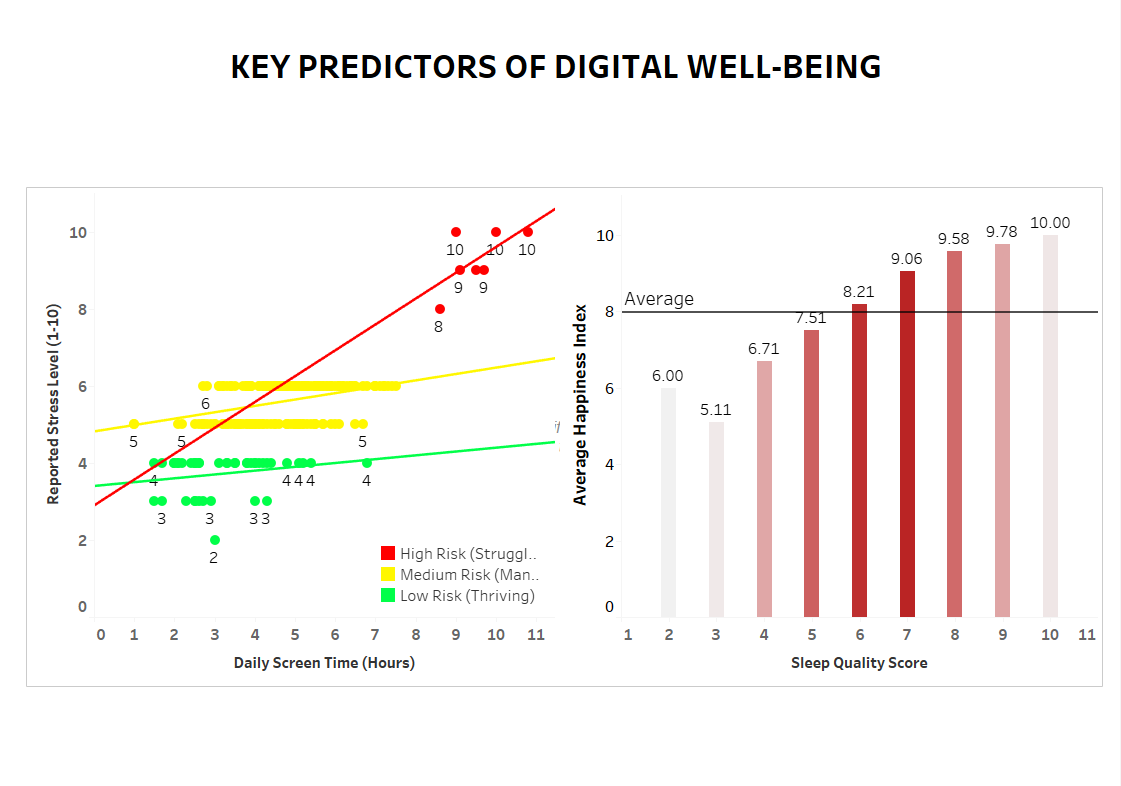

This screenshot's page, from the dashboard's own definition file:
{"tool":"tableau","page":{"name":"2. Predictor Analysis & Correlation","canvas":[1120,860],"ordinal":1},"visuals":[{"type":"text","box":[2,21,1108,90]},{"type":"worksheet","title":"Predictor - Screen Time vs Stress","mark":"Circle","rows":["Stress_Level_Score"],"cols":["Screen_Time_Hours"],"box":[35,194,520,487]},{"type":"worksheet","title":"Predictor - Sleep vs Happiness","mark":"Bar","rows":["Happiness_Index_Score"],"cols":["Sleep_Quality_Score"],"box":[560,196,538,485]},{"type":"legend","title":"Predictor - Screen Time vs Stress","param":"[federated.01wzcgq0xvm0b21ad522s0b5g357].[none:Risk_Segment:nk]","box":[378,544,167,67]}]}

Visuals, with their boxes on the page's 1120x860 design canvas (x1, y1, x2, y2). These are canvas units, not pixel positions in the 1121x786 screenshot, which may show the page scaled, cropped or inside an application window:
text: 2/21/1110/111
"Predictor - Screen Time vs Stress" worksheet (Circle marks): 35/194/555/681
"Predictor - Sleep vs Happiness" worksheet (Bar marks): 560/196/1098/681
"Predictor - Screen Time vs Stress" legend: 378/544/545/611
